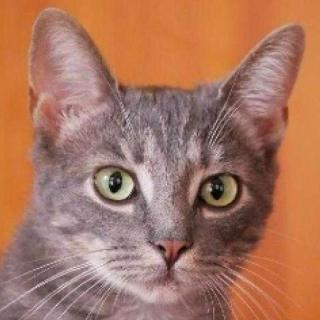cat: (22, 6, 309, 312)
nose: (144, 220, 197, 272)
